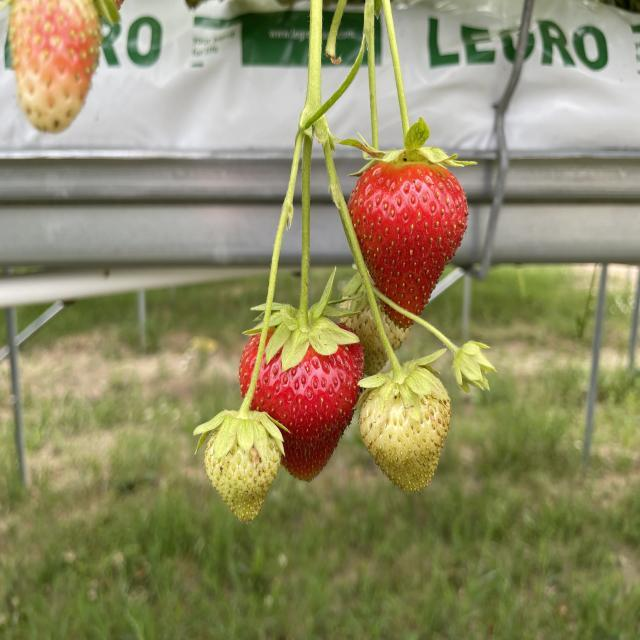stem: (368, 47, 464, 167), (198, 363, 280, 462), (268, 136, 302, 331)
strawberryNR: (360, 389, 451, 491), (205, 441, 281, 521)
strawberryR: (349, 164, 467, 315), (259, 344, 362, 479), (10, 1, 100, 132)
